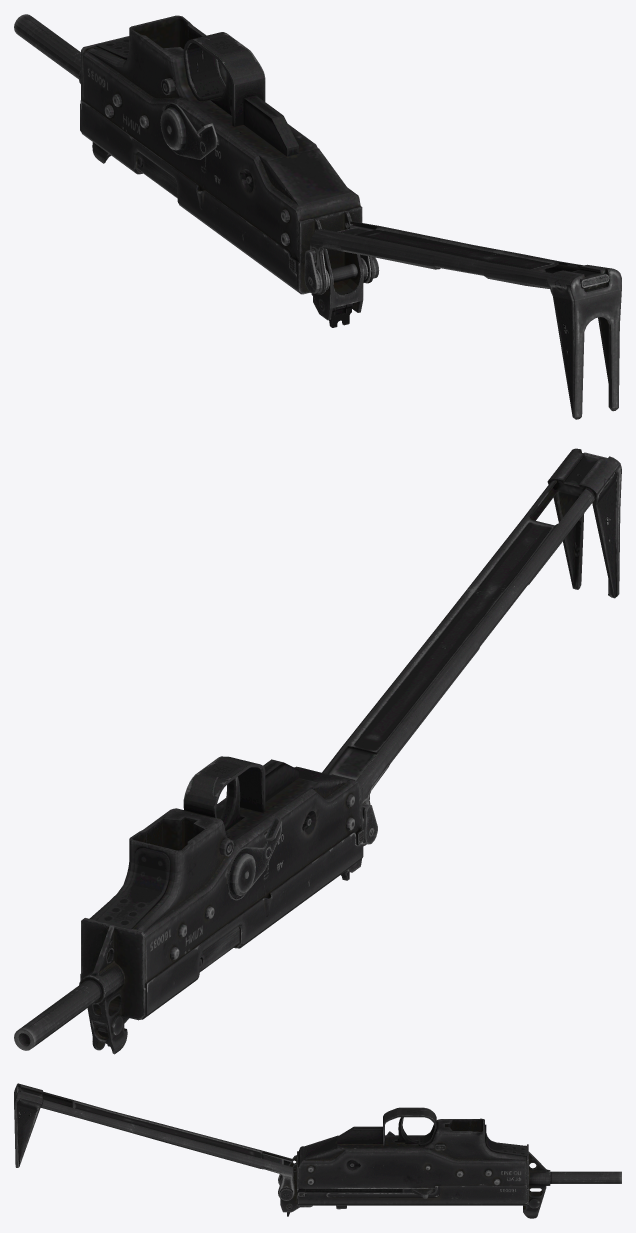
3 views of the same model, one above another, from view 1: azimuth 30°, elevation 25°; view 2: azimuth 150°, elevation 25°; view 3: azimuth 270°, elevation 25° (orthographic). The views are drawn at different scales.
Parts seen in each view (by area): view 1: TW_57f4c844245977379d5c14d1_PZ_Import; view 2: TW_57f4c844245977379d5c14d1_PZ_Import; view 3: TW_57f4c844245977379d5c14d1_PZ_Import.
Part boxes in pixels (x1,y1,x2,y2): TW_57f4c844245977379d5c14d1_PZ_Import: [14, 14, 621, 419]; TW_57f4c844245977379d5c14d1_PZ_Import: [14, 448, 621, 1054]; TW_57f4c844245977379d5c14d1_PZ_Import: [14, 1083, 621, 1218].
Size of the model in its own units: 0.0297 by 0.3131 by 0.0732.
1 material, 1 textured.
